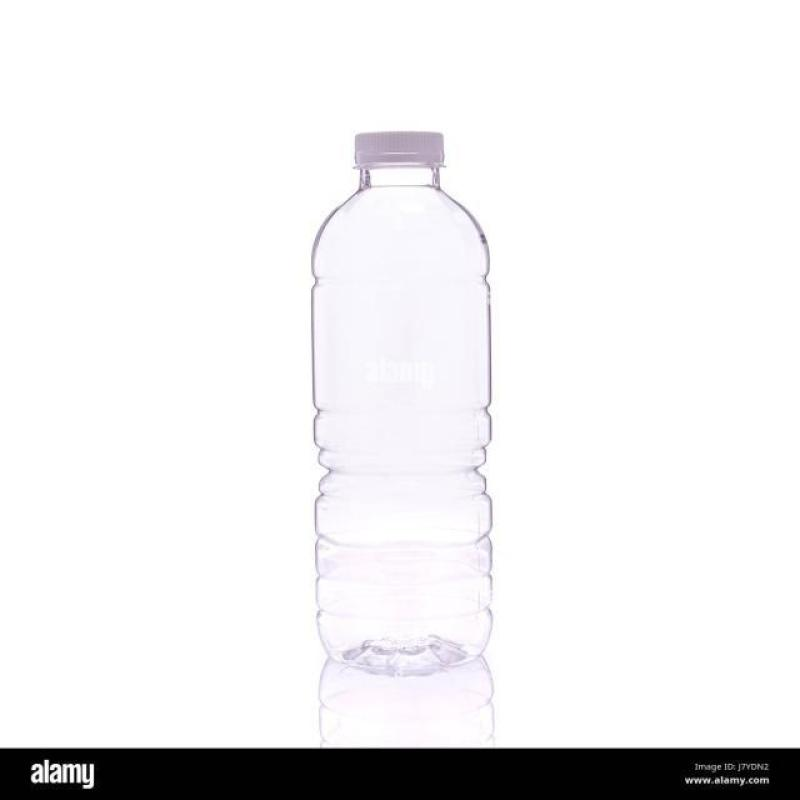botella: (308, 129, 498, 680)
